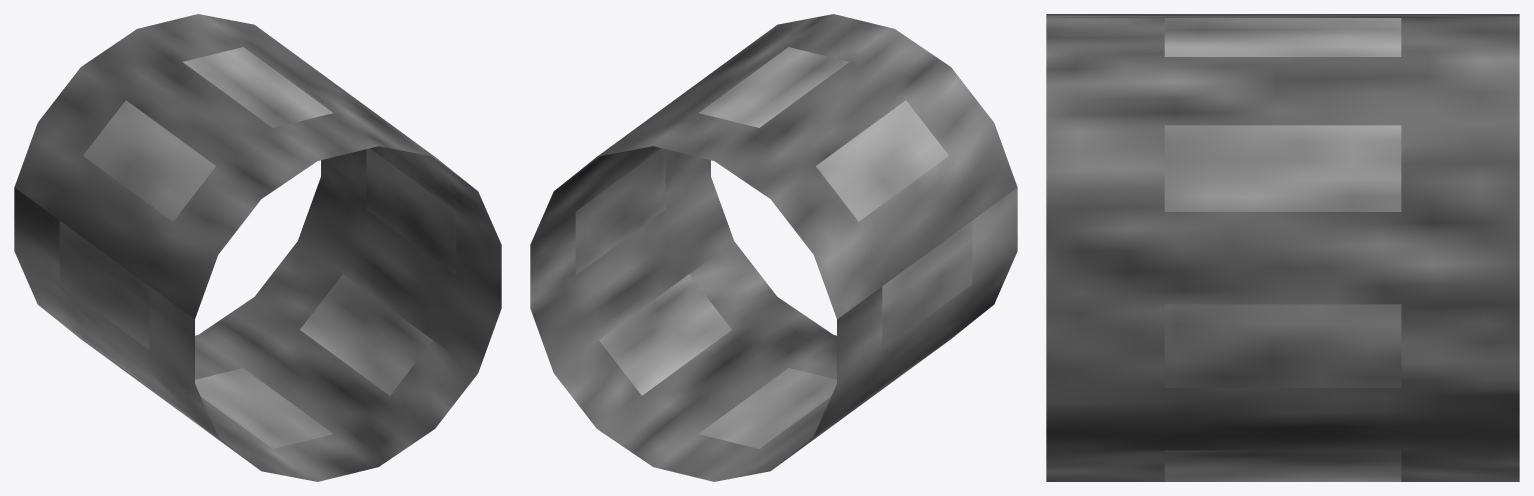
The model's file is NewEnemyShipBarrel.obj.
3 views of the same model, side by side, from view 1: azimuth 30°, elevation 25°; view 2: azimuth 150°, elevation 25°; view 3: azimuth 270°, elevation 25° (orthographic). The views are drawn at different scales.
Visible parts, largest first — view 1: Cube.001; view 2: Cube.001; view 3: Cube.001.
Part boxes in pixels (box(x1,y1,x2,y2)): Cube.001: box(14, 14, 501, 481); Cube.001: box(530, 14, 1017, 481); Cube.001: box(1046, 14, 1519, 481).
Bounding box in the file's own units: 0.7587 × 0.7587 × 0.7736.
